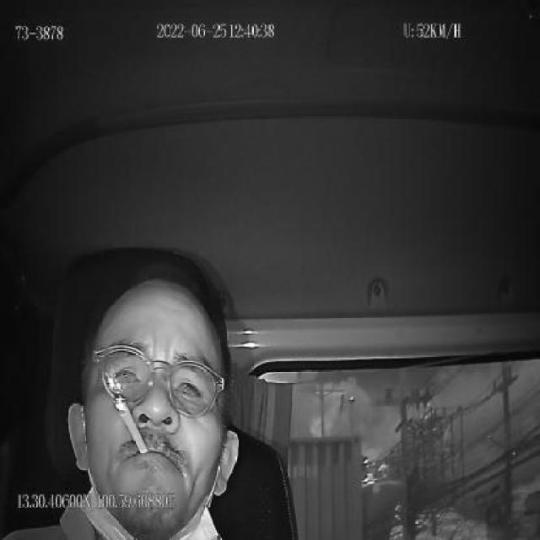smoking: (112, 395, 151, 455)
